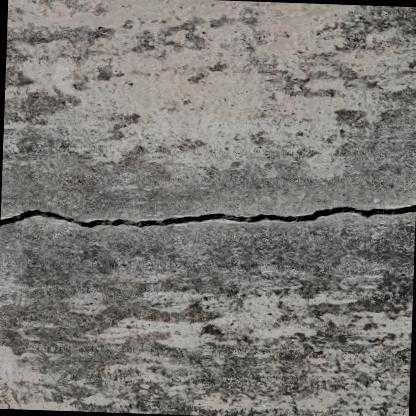crack: (0, 204, 416, 229)
